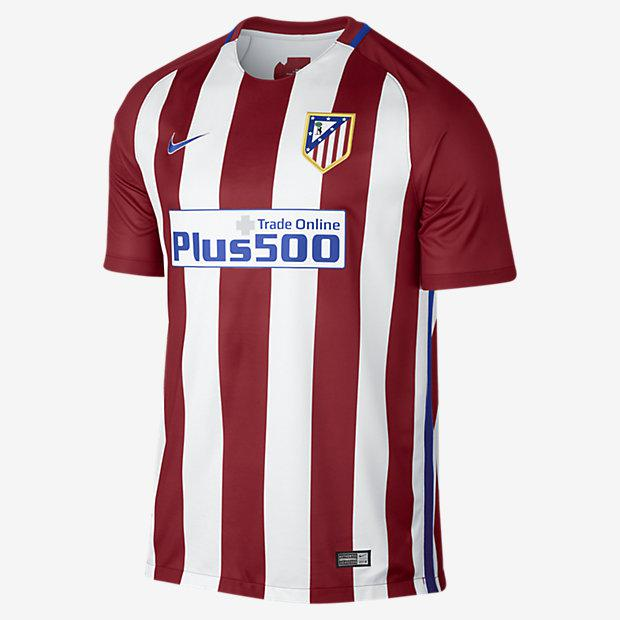teeshirt: (111, 12, 549, 620)
